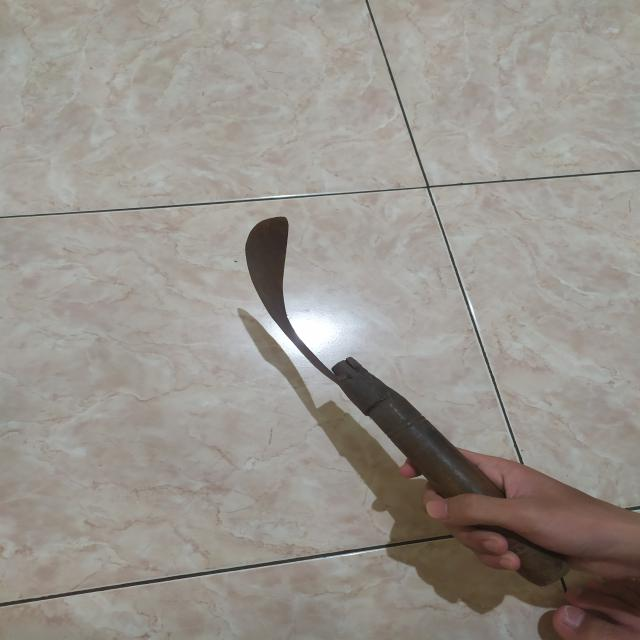Celurit: (244, 217, 575, 587)
